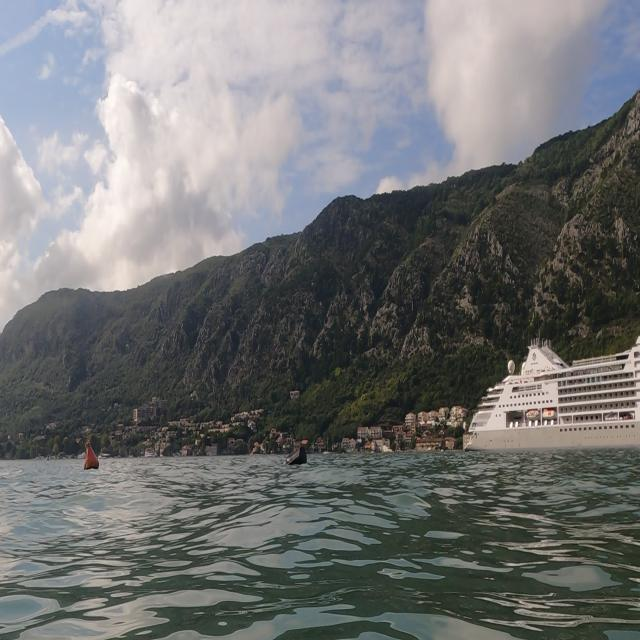boat: (455, 339, 640, 458)
buoy: (79, 432, 108, 477), (280, 441, 313, 473)
